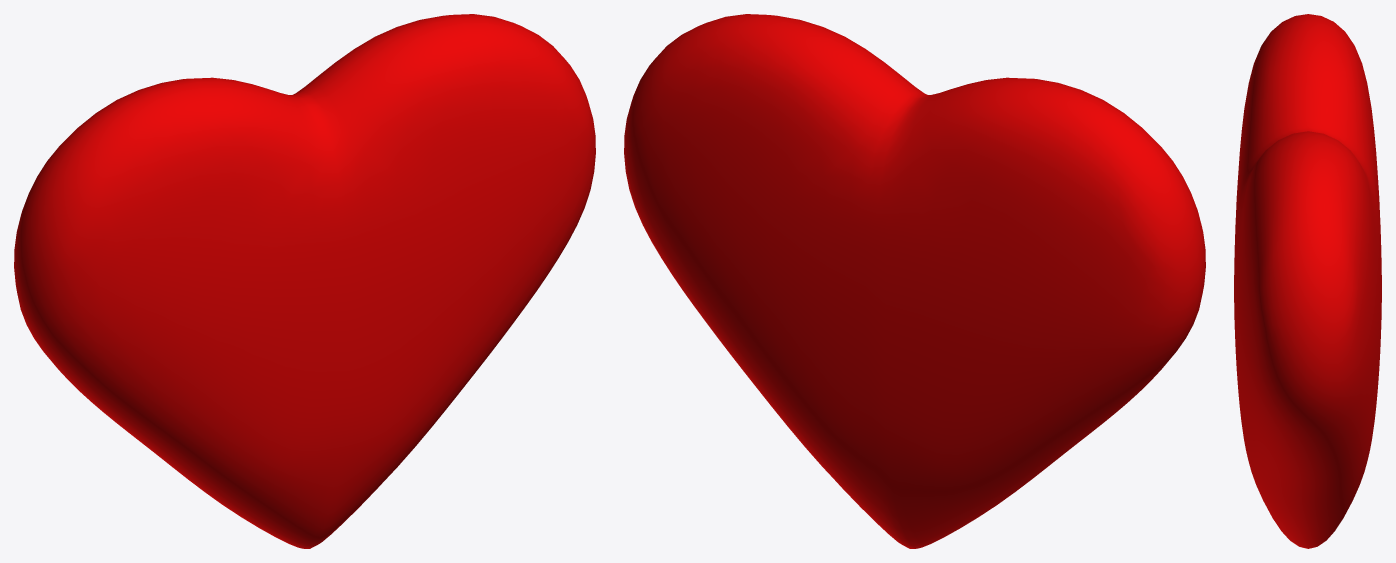
Rendered from heart-final.fbx.
The picture shows the model from 3 angles, left to right: view 1: azimuth 30°, elevation 25°; view 2: azimuth 150°, elevation 25°; view 3: azimuth 270°, elevation 25°; orthographic projection. The views are drawn at different scales.
Parts seen in each view (by area): view 1: polySurface6; view 2: polySurface6; view 3: polySurface6.
Part boxes in pixels (left/top/right/bottom): polySurface6: left=14, top=14, right=595, bottom=548; polySurface6: left=624, top=14, right=1205, bottom=548; polySurface6: left=1234, top=14, right=1381, bottom=548.
Size of the model in its own units: 21.03 by 17.48 by 5.12.
